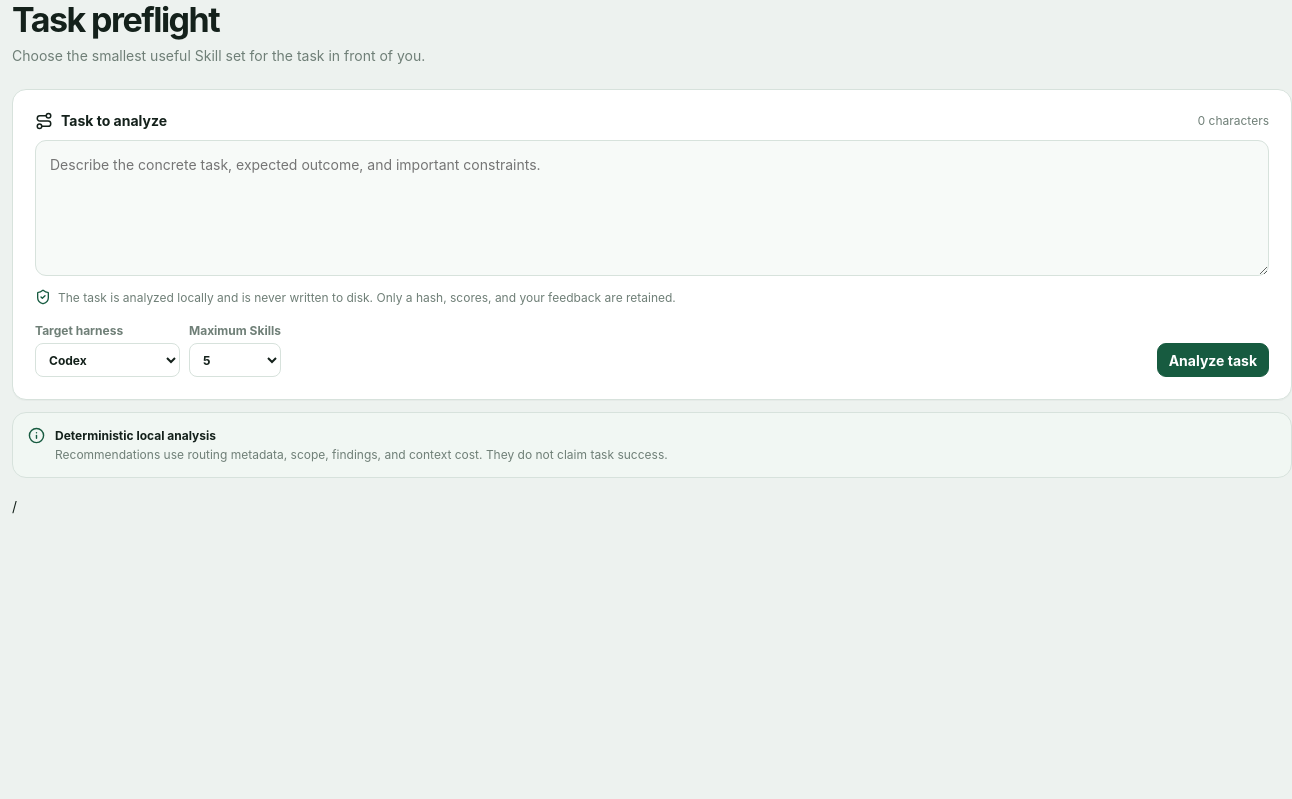
Test: PreflightPage v2 › carries the selected Claude Code target in a reload-safe installation URL
Select "Claude Code" in the dropdown labelled "Target harness" at (108, 360), box [35,343,180,377]
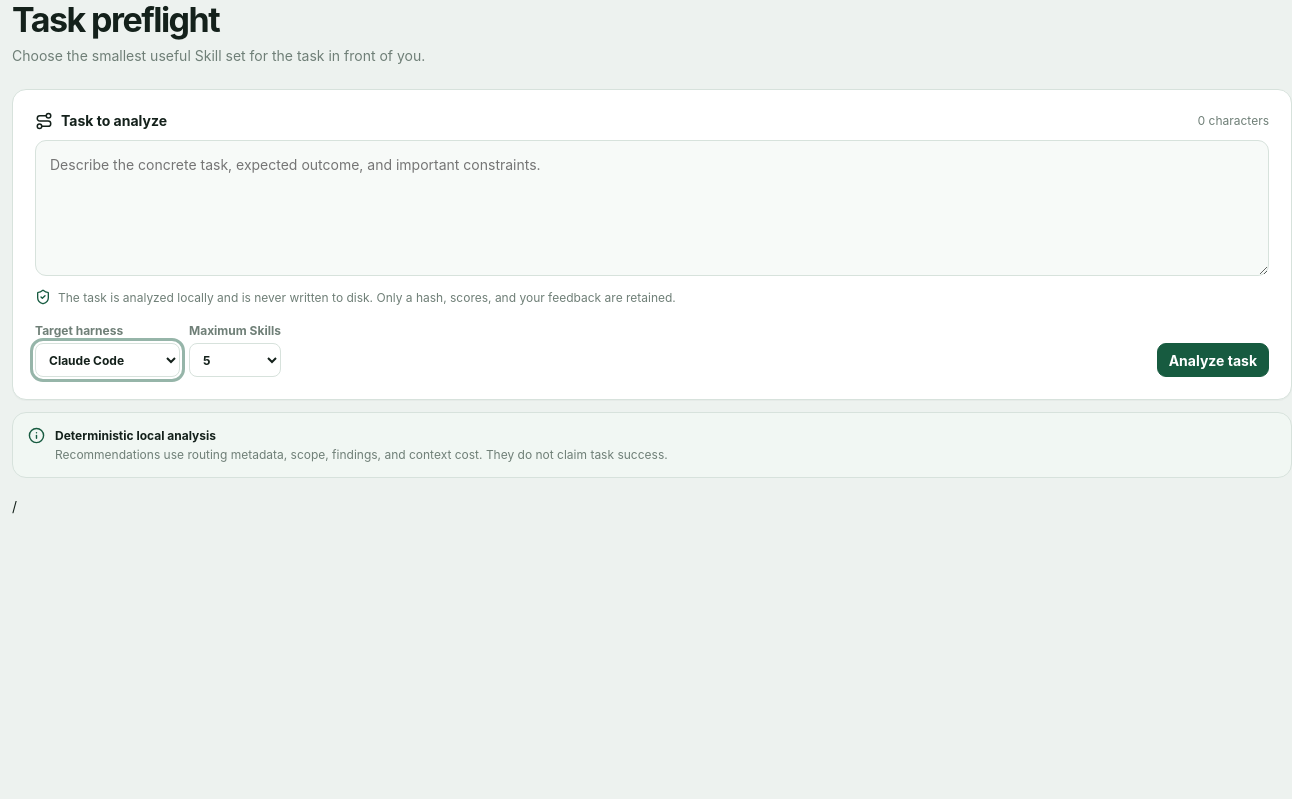
Type "Review security and missing tests" into the text box named "Task to analyze" at (652, 208), box [35,140,1269,276]
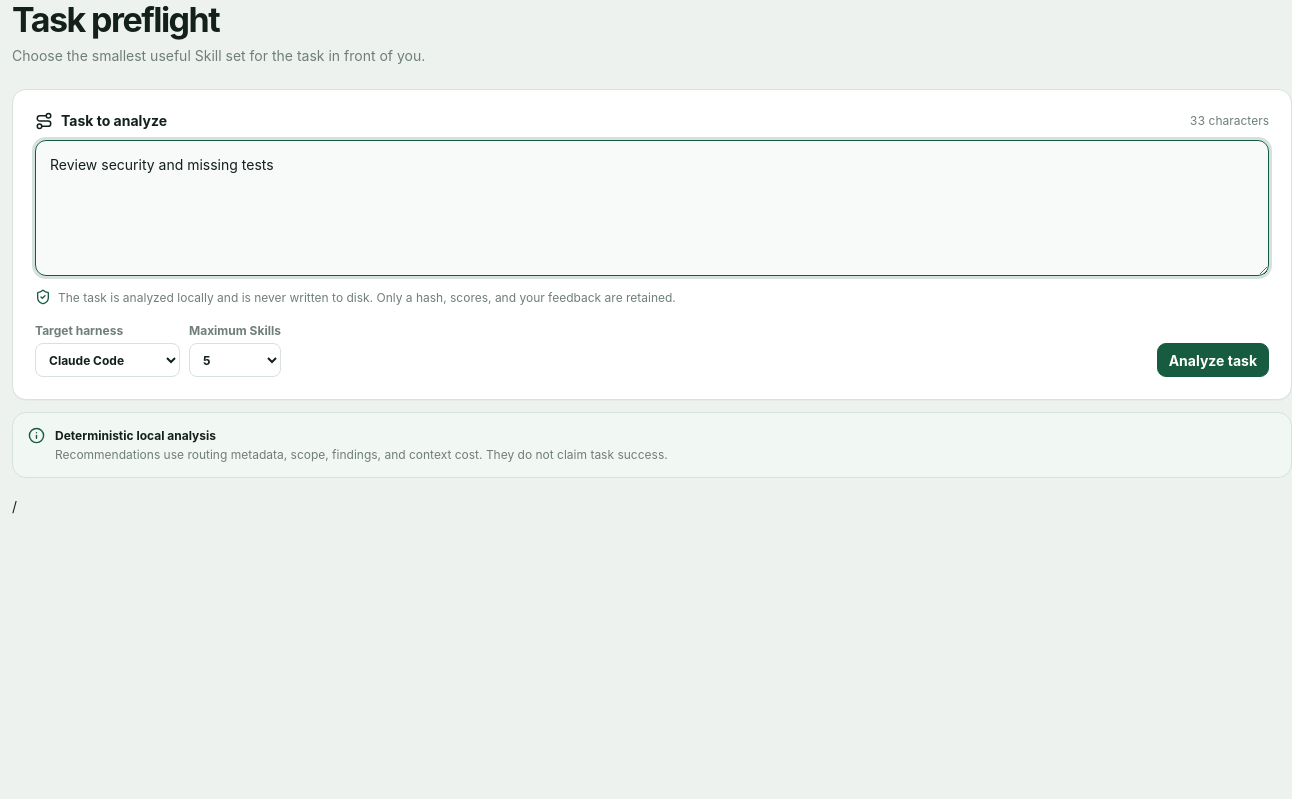
Click the button "Analyze task" at (1213, 360), box [1157,343,1269,377]
(page scrolled)
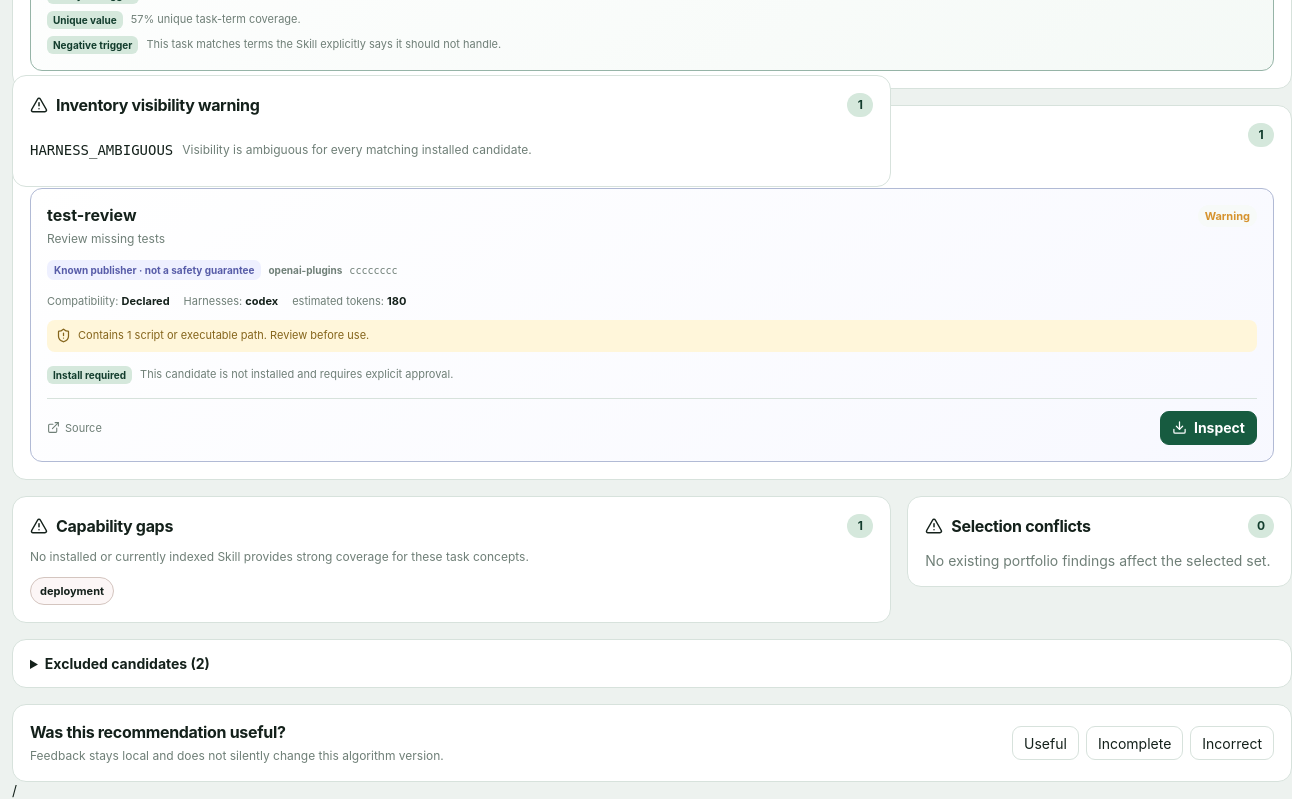
Click the button with aria-label "Inspect test-review" at (1208, 428), box [1160,411,1257,445]
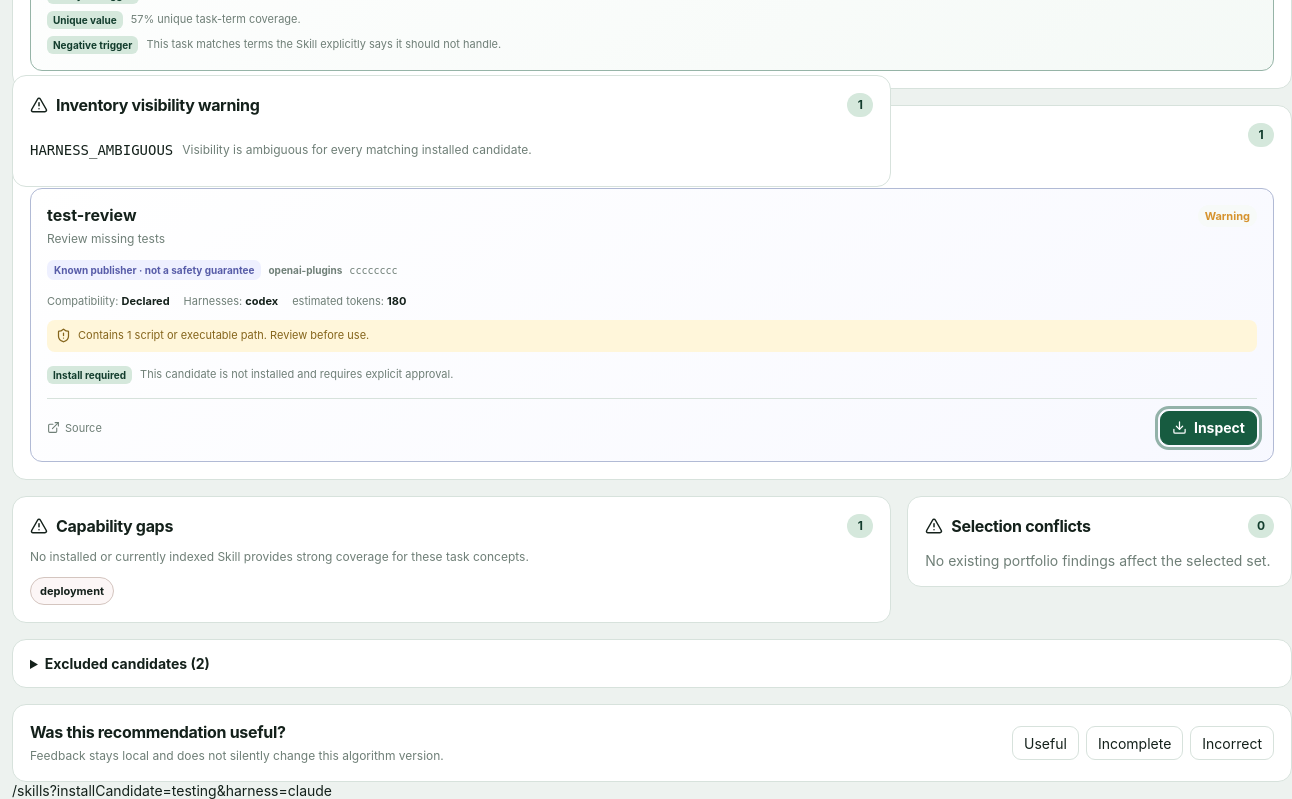
expect the text with test id "location" reads "/skills?installCandidate=testing&harness=claude": met, box [12,782,332,798]
